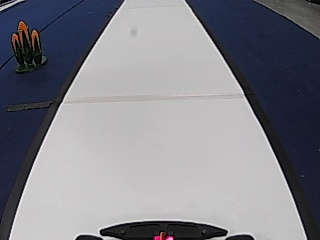corn: (7, 19, 49, 73)
